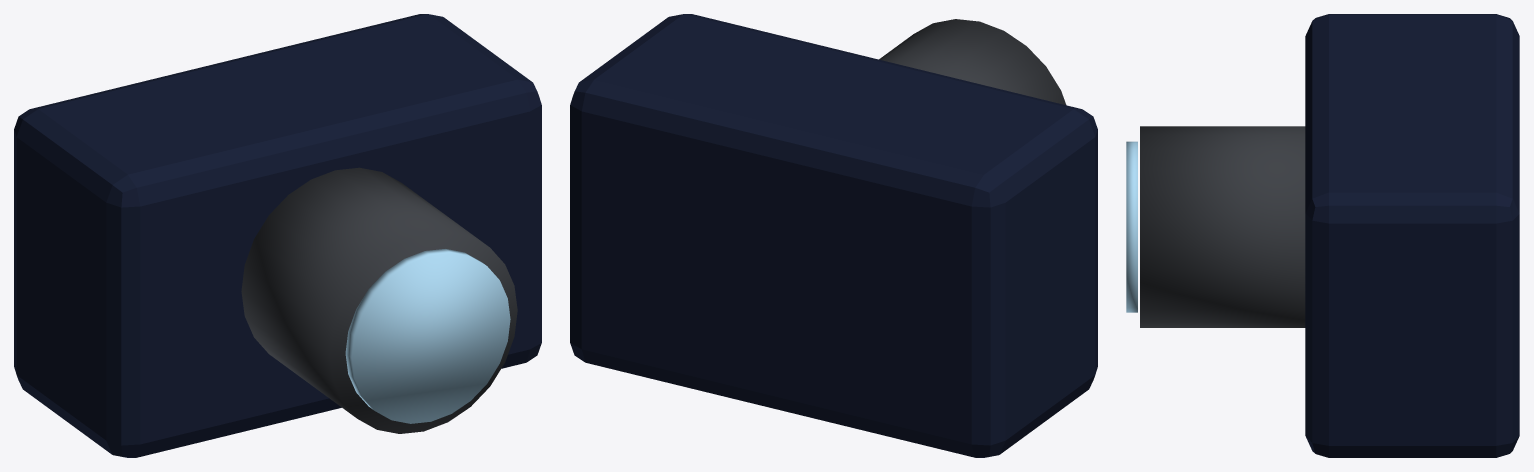
File: Camera_blockout.glb
3 views of the same model, side by side, from view 1: azimuth 30°, elevation 25°; view 2: azimuth 150°, elevation 25°; view 3: azimuth 270°, elevation 25° (orthographic). The views are drawn at different scales.
Parts seen in each view (by area): view 1: PRP06_Camera_Body_L0, PRP06_Camera_Lens_L0, PRP06_Camera_LensGlass_L0; view 2: PRP06_Camera_Body_L0, PRP06_Camera_Lens_L0; view 3: PRP06_Camera_Body_L0, PRP06_Camera_Lens_L0, PRP06_Camera_LensGlass_L0.
Part boxes in pixels (x1,y1,x2,y2): PRP06_Camera_Body_L0: (14,14,541,457); PRP06_Camera_Lens_L0: (241,167,517,433); PRP06_Camera_LensGlass_L0: (345,249,510,423); PRP06_Camera_Body_L0: (570,14,1097,457); PRP06_Camera_Lens_L0: (879,19,1066,104); PRP06_Camera_Body_L0: (1305,14,1519,457); PRP06_Camera_Lens_L0: (1140,126,1305,327); PRP06_Camera_LensGlass_L0: (1126,141,1137,312).
Size of the model in its own units: 0.12 by 0.075 by 0.101.
